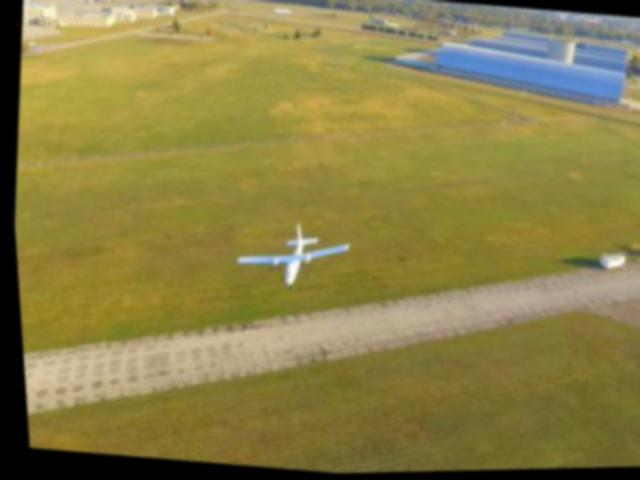uav: (228, 216, 351, 296)
